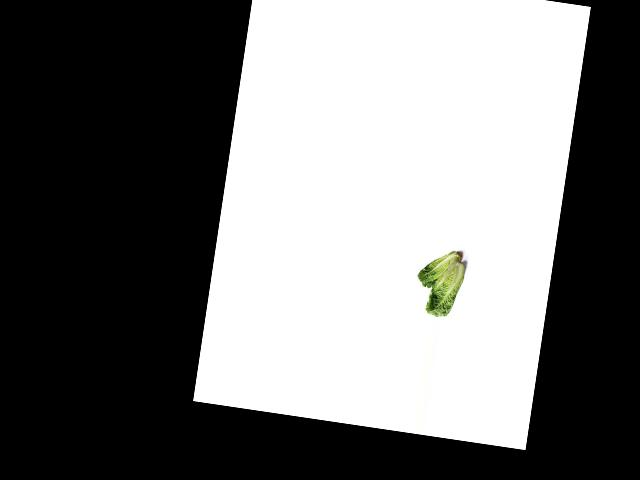lettuce: (415, 242, 464, 292)
